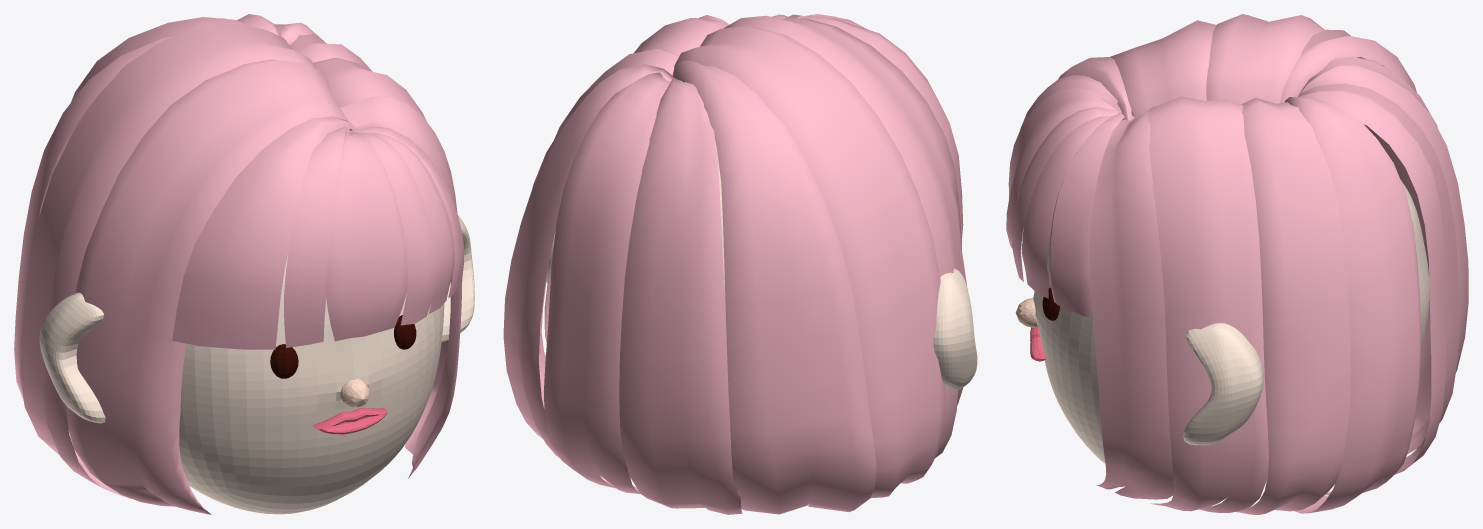
3 views of the same model, side by side, from view 1: azimuth 30°, elevation 25°; view 2: azimuth 150°, elevation 25°; view 3: azimuth 270°, elevation 25° (orthographic). The views are drawn at different scales.
Visible parts, largest first — view 1: dummyHair, Face, Mouth, Leye, Cone, Reye; view 2: dummyHair, Face; view 3: dummyHair, Face.
Boxes of the visible parts, left/top/right/bottom form: dummyHair: left=14, top=14, right=463, bottom=514; Face: left=39, top=215, right=474, bottom=514; Mouth: left=313, top=408, right=387, bottom=434; Leye: left=270, top=344, right=298, bottom=378; Cone: left=340, top=378, right=369, bottom=407; Reye: left=394, top=315, right=416, bottom=349; dummyHair: left=503, top=14, right=966, bottom=514; Face: left=546, top=143, right=977, bottom=390; dummyHair: left=1006, top=14, right=1468, bottom=514; Face: left=1033, top=179, right=1429, bottom=477.
Bounding box in the file's own units: 191 × 192 × 181.
